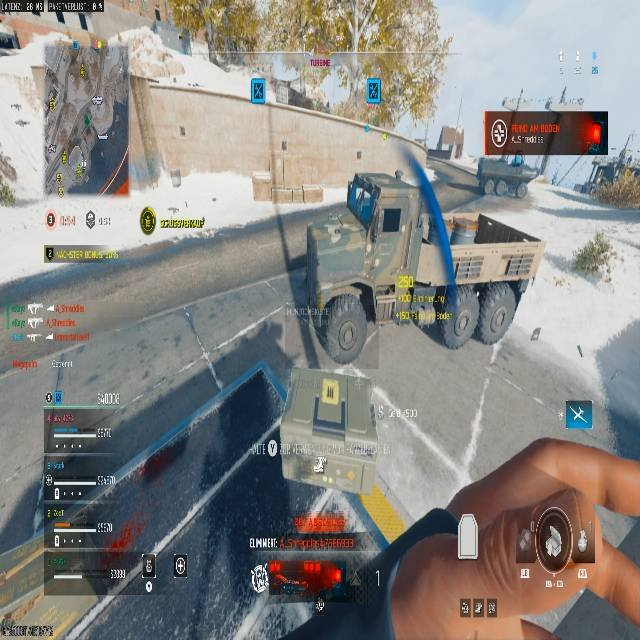player: (346, 173, 378, 247)
